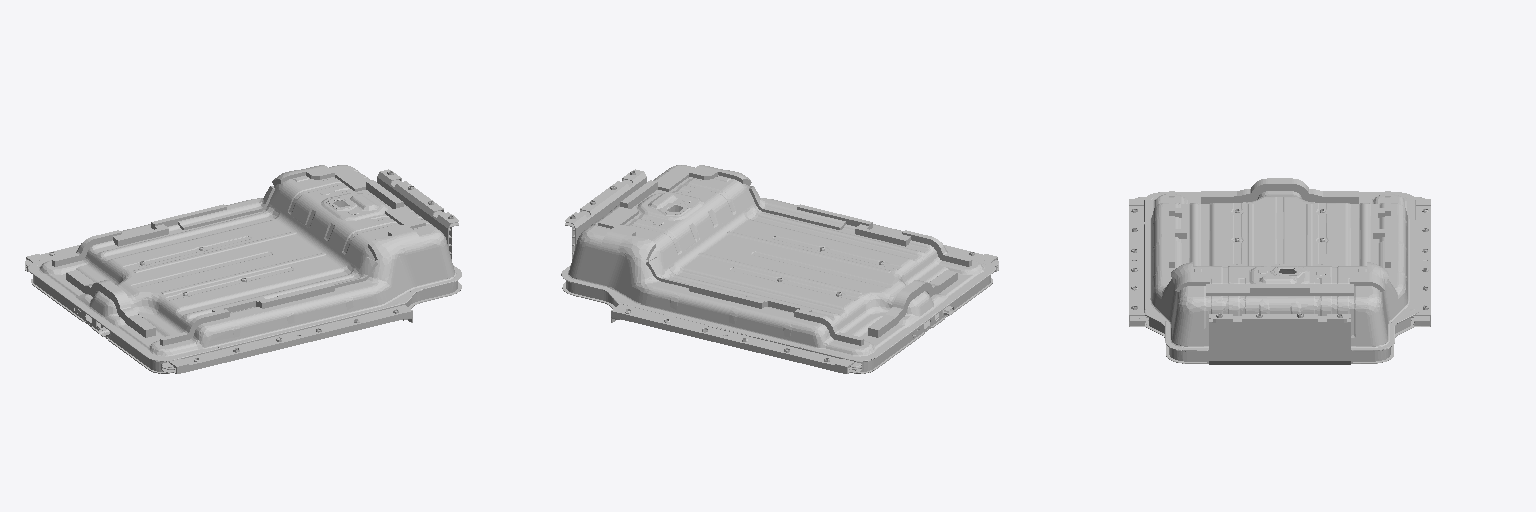
Rendered from niro_modified.obj.
The picture shows the model from 3 angles: view 1: azimuth 30°, elevation 25°; view 2: azimuth 150°, elevation 25°; view 3: azimuth 270°, elevation 25°; orthographic projection.
Parts seen in each view (by area): view 1: niro; view 2: niro; view 3: niro.
Part boxes in pixels (x1,y1,x2,y2): niro: (25, 165, 461, 373); niro: (561, 165, 998, 373); niro: (1129, 178, 1430, 364).
Bounding box in the file's own units: 1.86 × 0.3433 × 1.44.